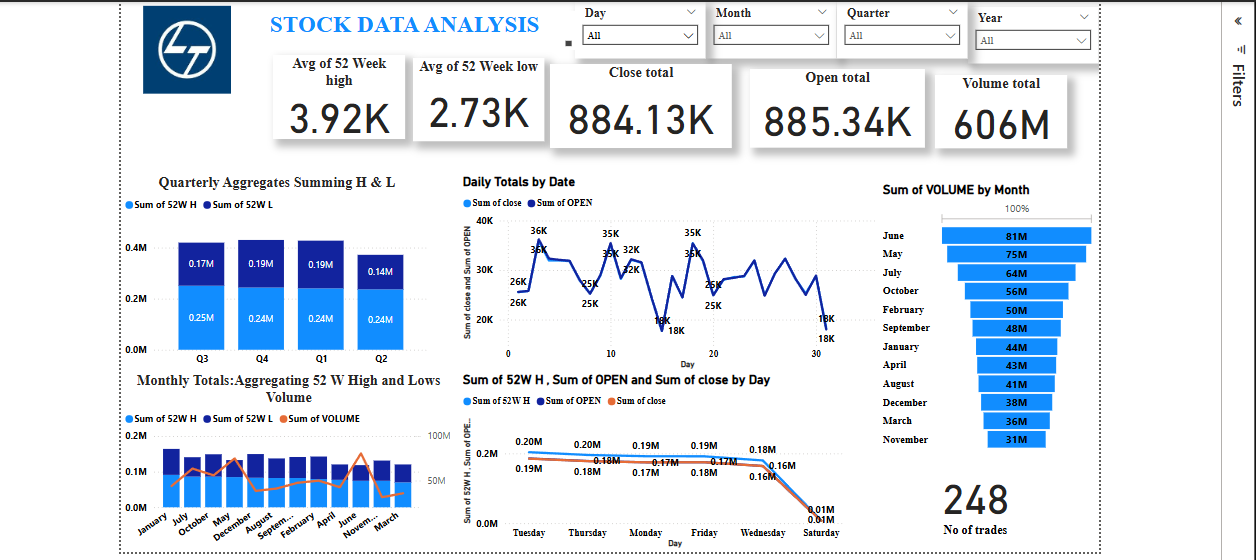

This screenshot's page, from the dashboard's own definition file:
{"tool":"powerbi","page":{"name":"L & T STOCK","canvas":[1280,720],"ordinal":0},"visuals":[{"type":"slicer","fields":{"Values":["Quote-Equity-LT-EQ-20-03-2024-to-20-03-2025.Month"]},"box":[766,0,171.3,73.9],"z":0},{"type":"slicer","fields":{"Values":["Quote-Equity-LT-EQ-20-03-2024-to-20-03-2025.Day"]},"box":[594.6,0,171.3,73.9],"z":1000},{"type":"slicer","fields":{"Values":["Quote-Equity-LT-EQ-20-03-2024-to-20-03-2025.Year"]},"box":[1108.7,6.7,171.3,73.9],"z":2000},{"type":"slicer","fields":{"Values":["Quote-Equity-LT-EQ-20-03-2024-to-20-03-2025.Quarter"]},"box":[937.3,0,171.3,73.9],"z":3000},{"type":"card","title":"Avg of 52 Week high","fields":{"Values":["Avg(Quote-Equity-LT-EQ-20-03-2024-to-20-03-2025.52W H )"]},"box":[198.4,69.1,173.4,110.2],"z":4000},{"type":"card","title":"Avg of 52 Week low","fields":{"Values":["Avg(Quote-Equity-LT-EQ-20-03-2024-to-20-03-2025.52W L )"]},"box":[382,73.5,171.9,108.7],"z":5000},{"type":"card","title":"Close total","fields":{"Values":["Sum(Quote-Equity-LT-EQ-20-03-2024-to-20-03-2025.close )"]},"box":[561.3,80.8,238,110.2],"z":6000},{"type":"card","title":"Open total","fields":{"Values":["Sum(Quote-Equity-LT-EQ-20-03-2024-to-20-03-2025.OPEN )"]},"box":[822.9,88.2,229.2,102.9],"z":7000},{"type":"card","title":"Volume total","fields":{"Values":["Sum(Quote-Equity-LT-EQ-20-03-2024-to-20-03-2025.VOLUME )"]},"box":[1065.3,95.5,173.4,95.5],"z":8000},{"type":"columnChart","title":"Quarterly Aggregates Summing H & L","fields":{"Y":["Sum(Quote-Equity-LT-EQ-20-03-2024-to-20-03-2025.52W H )","Sum(Quote-Equity-LT-EQ-20-03-2024-to-20-03-2025.52W L )"],"Category":["Quote-Equity-LT-EQ-20-03-2024-to-20-03-2025.Quarter"]},"box":[0,224.8,408.5,260.1],"z":9000},{"type":"lineStackedColumnComboChart","title":"Monthly Totals:Aggregating 52 W High and Low Volume","fields":{"Category":["Quote-Equity-LT-EQ-20-03-2024-to-20-03-2025.Month"],"Y":["Sum(Quote-Equity-LT-EQ-20-03-2024-to-20-03-2025.52W H )","Sum(Quote-Equity-LT-EQ-20-03-2024-to-20-03-2025.52W L )"],"Y2":["Sum(Quote-Equity-LT-EQ-20-03-2024-to-20-03-2025.VOLUME )"]},"box":[0,484.9,439.3,235.1],"z":10000},{"type":"lineChart","title":"Daily Totals by Date","fields":{"Category":["Quote-Equity-LT-EQ-20-03-2024-to-20-03-2025.Date .Variation.Date Hierarchy.Day"],"Y":["Sum(Quote-Equity-LT-EQ-20-03-2024-to-20-03-2025.close )","Sum(Quote-Equity-LT-EQ-20-03-2024-to-20-03-2025.OPEN )"]},"box":[442.3,224.8,549.6,260.1],"z":11000},{"type":"image","box":[0,0,173.4,124.9],"z":12000},{"type":"lineChart","title":"Sum of 52W H , Sum of 52W L , Sum of Open  and Sum of close  by Day","fields":{"Y":["Sum(Quote-Equity-LT-EQ-20-03-2024-to-20-03-2025.52W H )","Sum(Quote-Equity-LT-EQ-20-03-2024-to-20-03-2025.52W L )","Sum(Quote-Equity-LT-EQ-20-03-2024-to-20-03-2025.OPEN )","Sum(Quote-Equity-LT-EQ-20-03-2024-to-20-03-2025.close )"],"Category":["Quote-Equity-LT-EQ-20-03-2024-to-20-03-2025.Day"]},"box":[442.3,484.9,509.9,235.1],"z":13000},{"type":"funnel","title":"Sum of Volume  by Month","fields":{"Category":["Quote-Equity-LT-EQ-20-03-2024-to-20-03-2025.Month"],"Y":["Sum(Quote-Equity-LT-EQ-20-03-2024-to-20-03-2025.VOLUME )"]},"box":[991.8,235.1,288,387.9],"z":14000},{"type":"textbox","title":"STOCK DATA ANALYSIS","box":[148.4,11.8,446.7,51.4],"z":15000},{"type":"card","fields":{"Values":["CountNonNull(Quote-Equity-LT-EQ-20-03-2024-to-20-03-2025.No of trades )"]},"box":[956.6,586.3,323.3,133.7],"z":16000}]}

Visuals, with their boxes on the page's 1280x720 design canvas (x1, y1, x2, y2). These are canvas units, not pixel positions in the 1256x560 screenshot, which may show the page scaled, cropped or inside an application window:
slicer - Quote-Equity-LT-EQ-20-03-2024-to-20-03-2025.Month: region(766, 0, 937, 74)
slicer - Quote-Equity-LT-EQ-20-03-2024-to-20-03-2025.Day: region(595, 0, 766, 74)
slicer - Quote-Equity-LT-EQ-20-03-2024-to-20-03-2025.Year: region(1109, 7, 1280, 81)
slicer - Quote-Equity-LT-EQ-20-03-2024-to-20-03-2025.Quarter: region(937, 0, 1109, 74)
"Avg of 52 Week high" card: region(198, 69, 372, 179)
"Avg of 52 Week low" card: region(382, 74, 554, 182)
"Close total" card: region(561, 81, 799, 191)
"Open total" card: region(823, 88, 1052, 191)
"Volume total" card: region(1065, 96, 1239, 191)
"Quarterly Aggregates Summing H & L" columnChart: region(0, 225, 408, 485)
"Monthly Totals:Aggregating 52 W High and Low Volume" lineStackedColumnComboChart: region(0, 485, 439, 720)
"Daily Totals by Date" lineChart: region(442, 225, 992, 485)
image: region(0, 0, 173, 125)
"Sum of 52W H , Sum of 52W L , Sum of Open  and Sum of close  by Day" lineChart: region(442, 485, 952, 720)
"Sum of Volume  by Month" funnel: region(992, 235, 1280, 623)
"STOCK DATA ANALYSIS" textbox: region(148, 12, 595, 63)
card - CountNonNull(Quote-Equity-LT-EQ-20-03-2024-to-20-03-2025.No of trades ): region(957, 586, 1280, 720)
